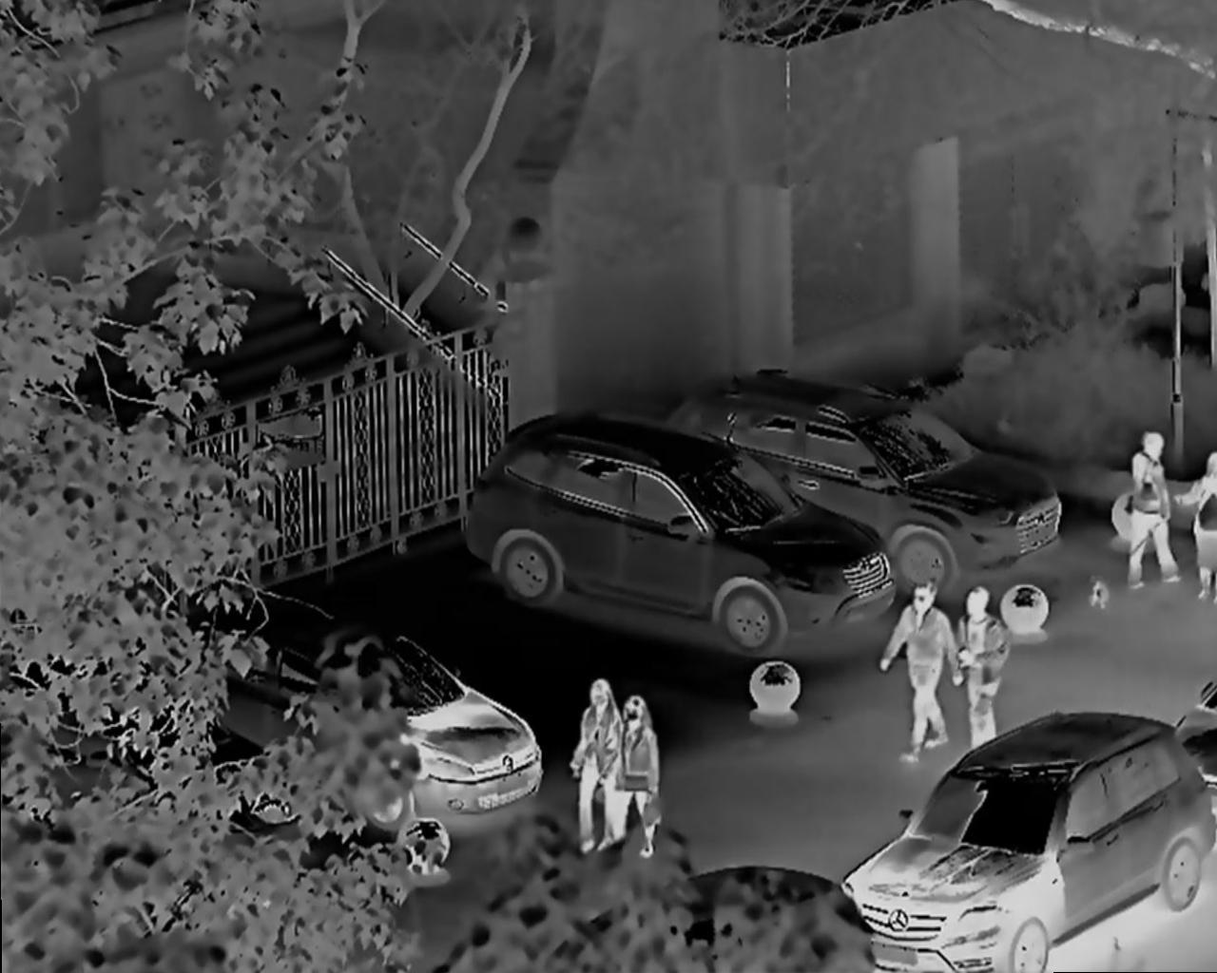person: (879, 581, 947, 752), (1125, 425, 1181, 597), (952, 588, 1011, 740), (568, 677, 619, 829), (612, 695, 663, 847), (1187, 447, 1217, 590)
